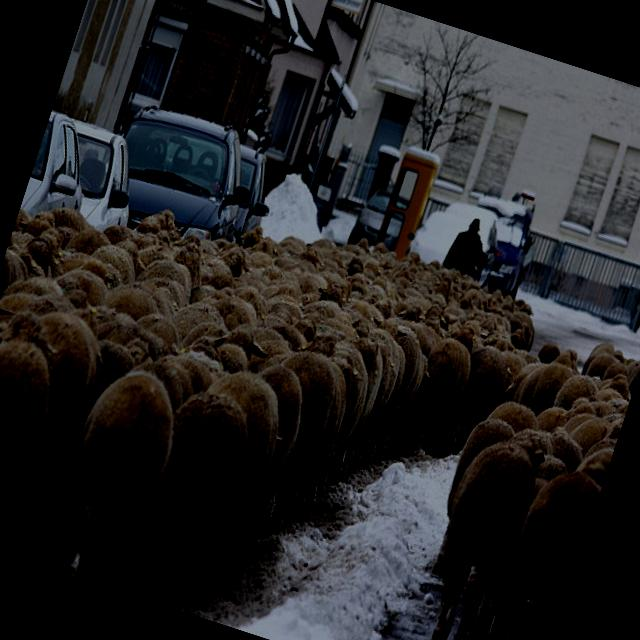Vehicle: (88, 92, 266, 261), (42, 119, 154, 238), (20, 108, 106, 225), (405, 188, 506, 284), (454, 194, 544, 298), (213, 140, 288, 244), (347, 181, 414, 259)
